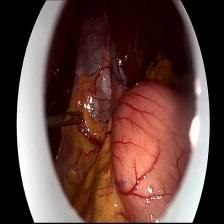Grasper: (51, 109, 84, 129)
